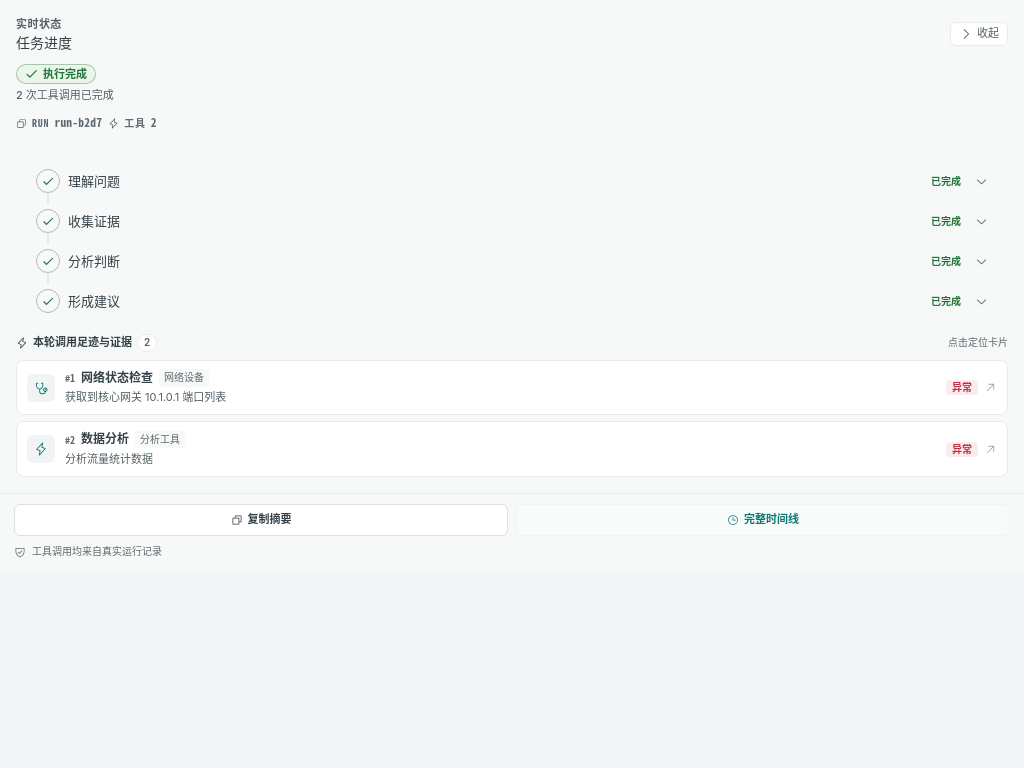
TaskProgressPanel Component › reports a rejected clipboard write and leaves summary copying retryable
This screenshot has width=1024, height=768.
Click the button "复制摘要": (261, 520) [14, 504, 508, 536]
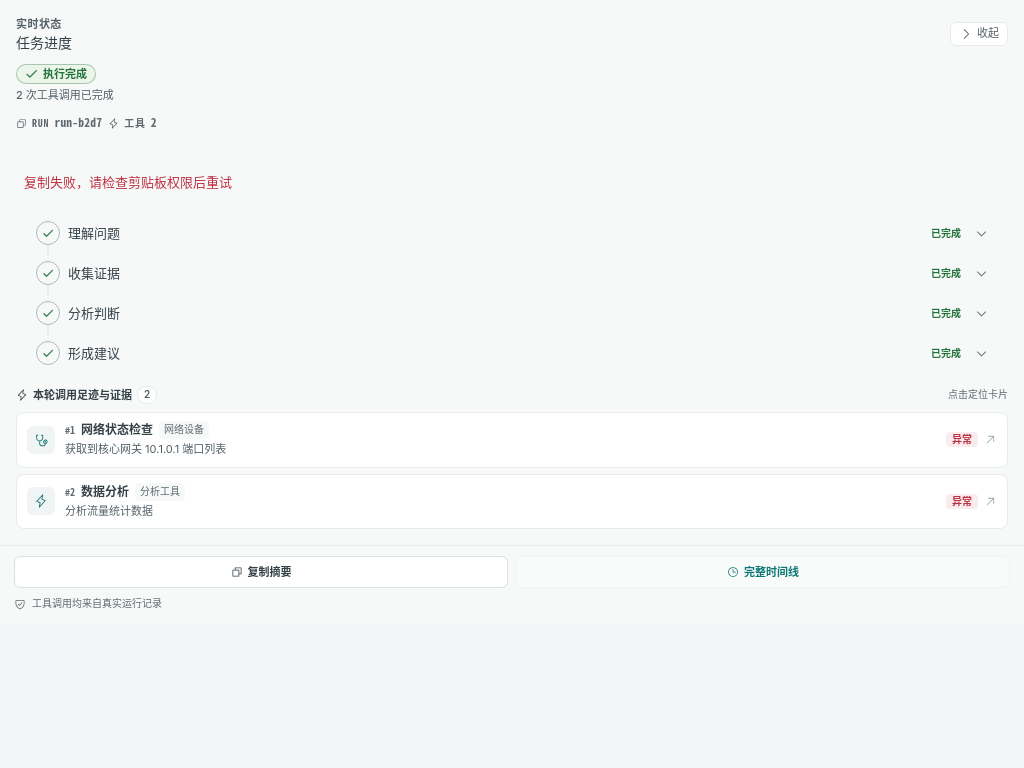
Expected: the button "复制摘要" is enabled, [14, 556, 508, 588]
Expected: the message shows "复制失败", [24, 174, 232, 190]
